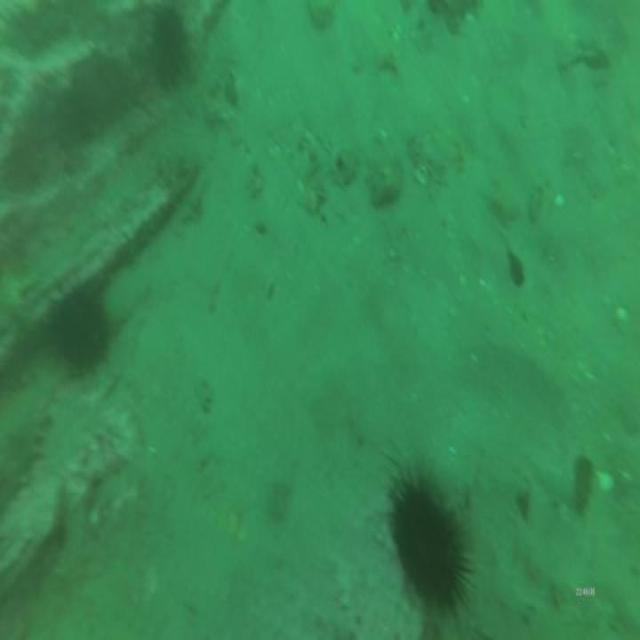echinus: (377, 458, 476, 623), (45, 281, 114, 378), (146, 0, 192, 98)
holothurian: (0, 393, 52, 518)
